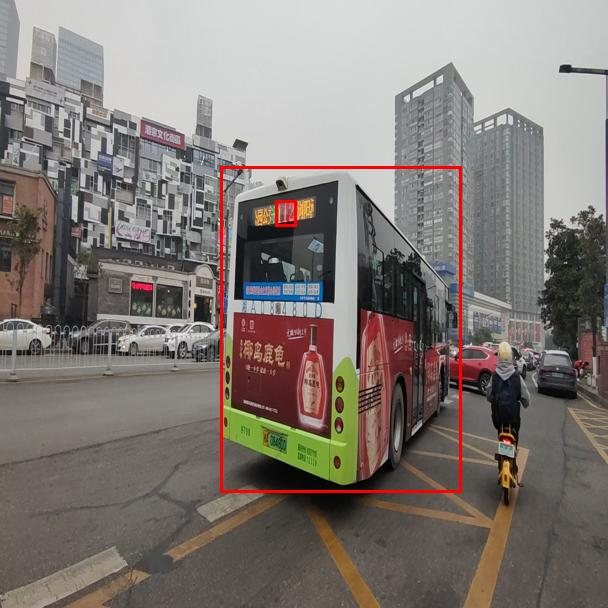bus: (220, 166, 461, 492)
screen: (275, 200, 296, 226)
